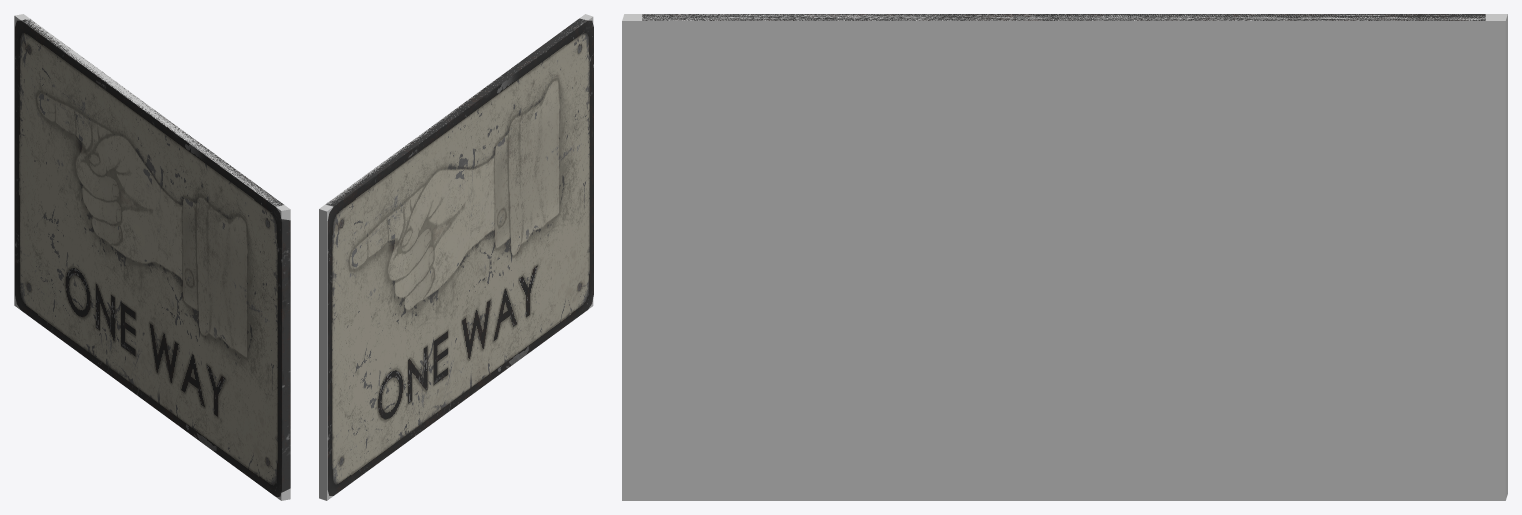
Rendered from SM_WaySign_A.fbx.
3 renders of one model, left to right at view 1: azimuth 30°, elevation 25°; view 2: azimuth 150°, elevation 25°; view 3: azimuth 270°, elevation 25°, orthographic. The views are drawn at different scales.
Visible parts, largest first — view 1: SM_WaySign_A_LOD0, SM_WaySign_A_ConvexHulls; view 2: SM_WaySign_A_LOD0, SM_WaySign_A_ConvexHulls; view 3: SM_WaySign_A_ConvexHulls, SM_WaySign_A_LOD0.
Part boxes in pixels (<box>): SM_WaySign_A_LOD0: <box>15,19,290,496</box>; SM_WaySign_A_ConvexHulls: <box>14,14,290,500</box>; SM_WaySign_A_LOD0: <box>326,18,593,495</box>; SM_WaySign_A_ConvexHulls: <box>319,14,593,500</box>; SM_WaySign_A_ConvexHulls: <box>622,14,1507,500</box>; SM_WaySign_A_LOD0: <box>642,14,1485,20</box>.
Bounding box in the file's own units: 1.16 × 62.56 × 37.41.
